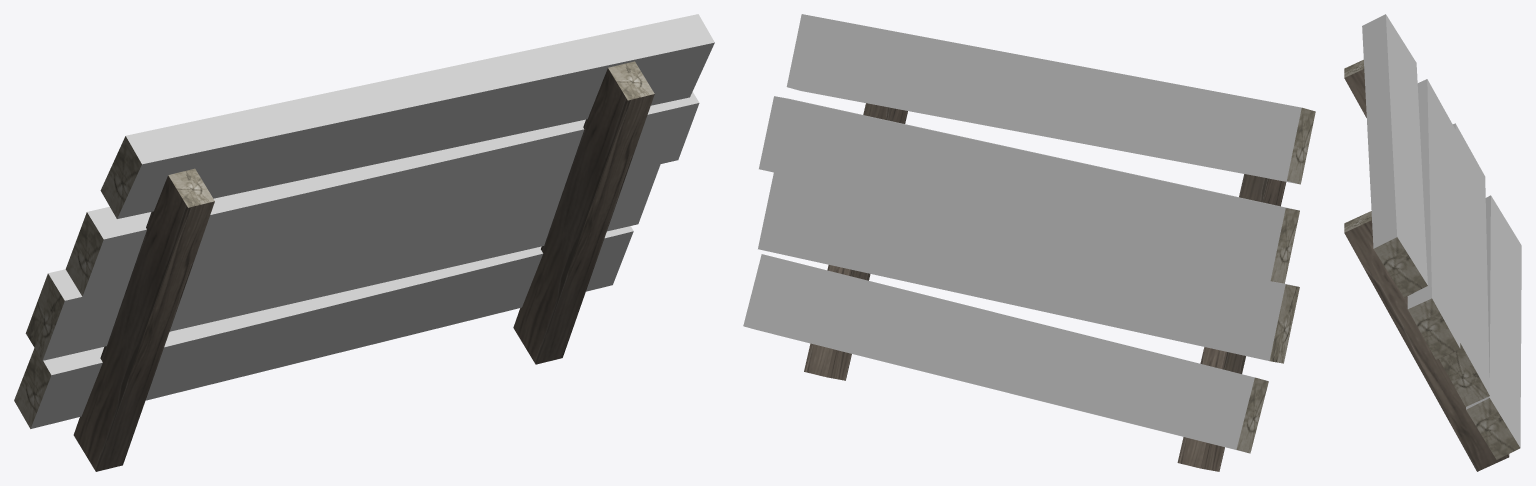
File: Deck_Ramp.fbx
3 renders of one model, left to right at view 1: azimuth 30°, elevation 25°; view 2: azimuth 150°, elevation 25°; view 3: azimuth 270°, elevation 25°, orthographic. The views are drawn at different scales.
Parts seen in each view (by area): view 1: Deck_Ramp; view 2: Deck_Ramp; view 3: Deck_Ramp.
Boxes of the visible parts, x1,y1,x2,y2 form: Deck_Ramp: (14, 14, 714, 471); Deck_Ramp: (743, 14, 1315, 471); Deck_Ramp: (1344, 14, 1521, 471).
Bounding box in the file's own units: 3.48 × 2.09 × 1.2.
